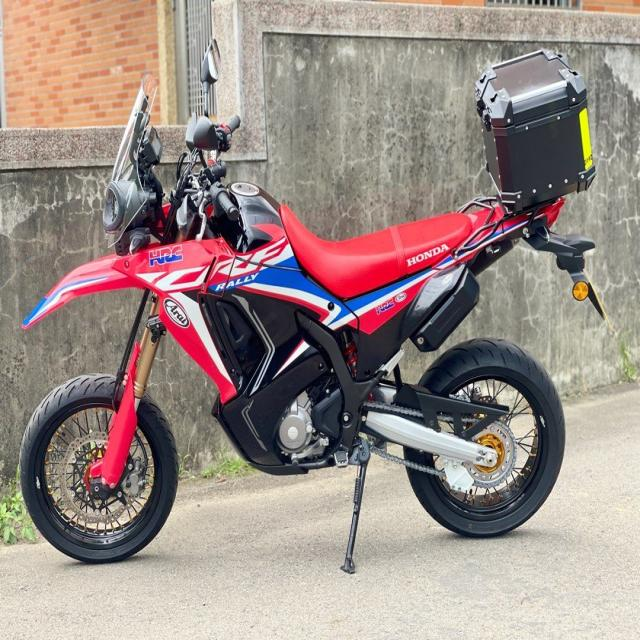Bike: (17, 41, 604, 575)
